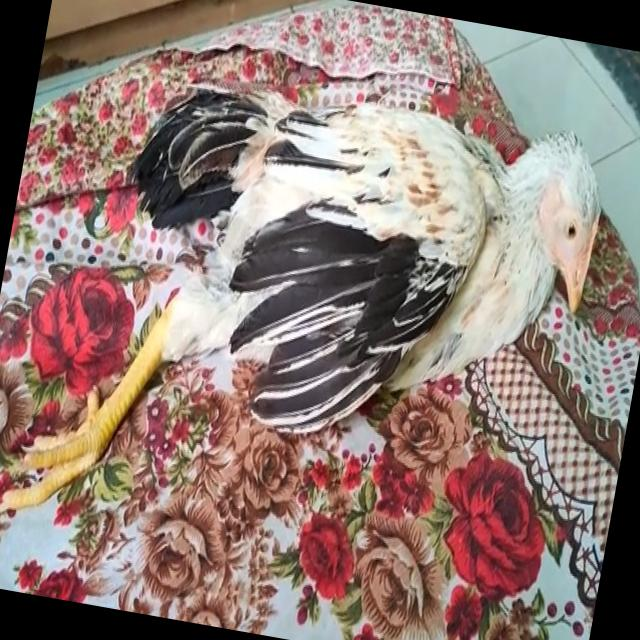leg stretching: (11, 22, 620, 628)
